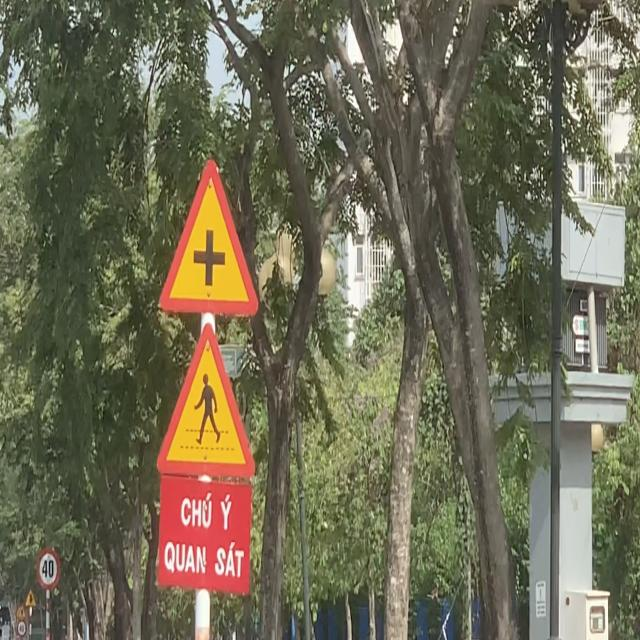Duong giao nhau: (155, 152, 260, 325)
Giao voi duong khong uu tien: (26, 586, 38, 608)
Nguoi di bo cat ngang: (154, 316, 258, 482)
Toc do toi da: (34, 546, 62, 592)
